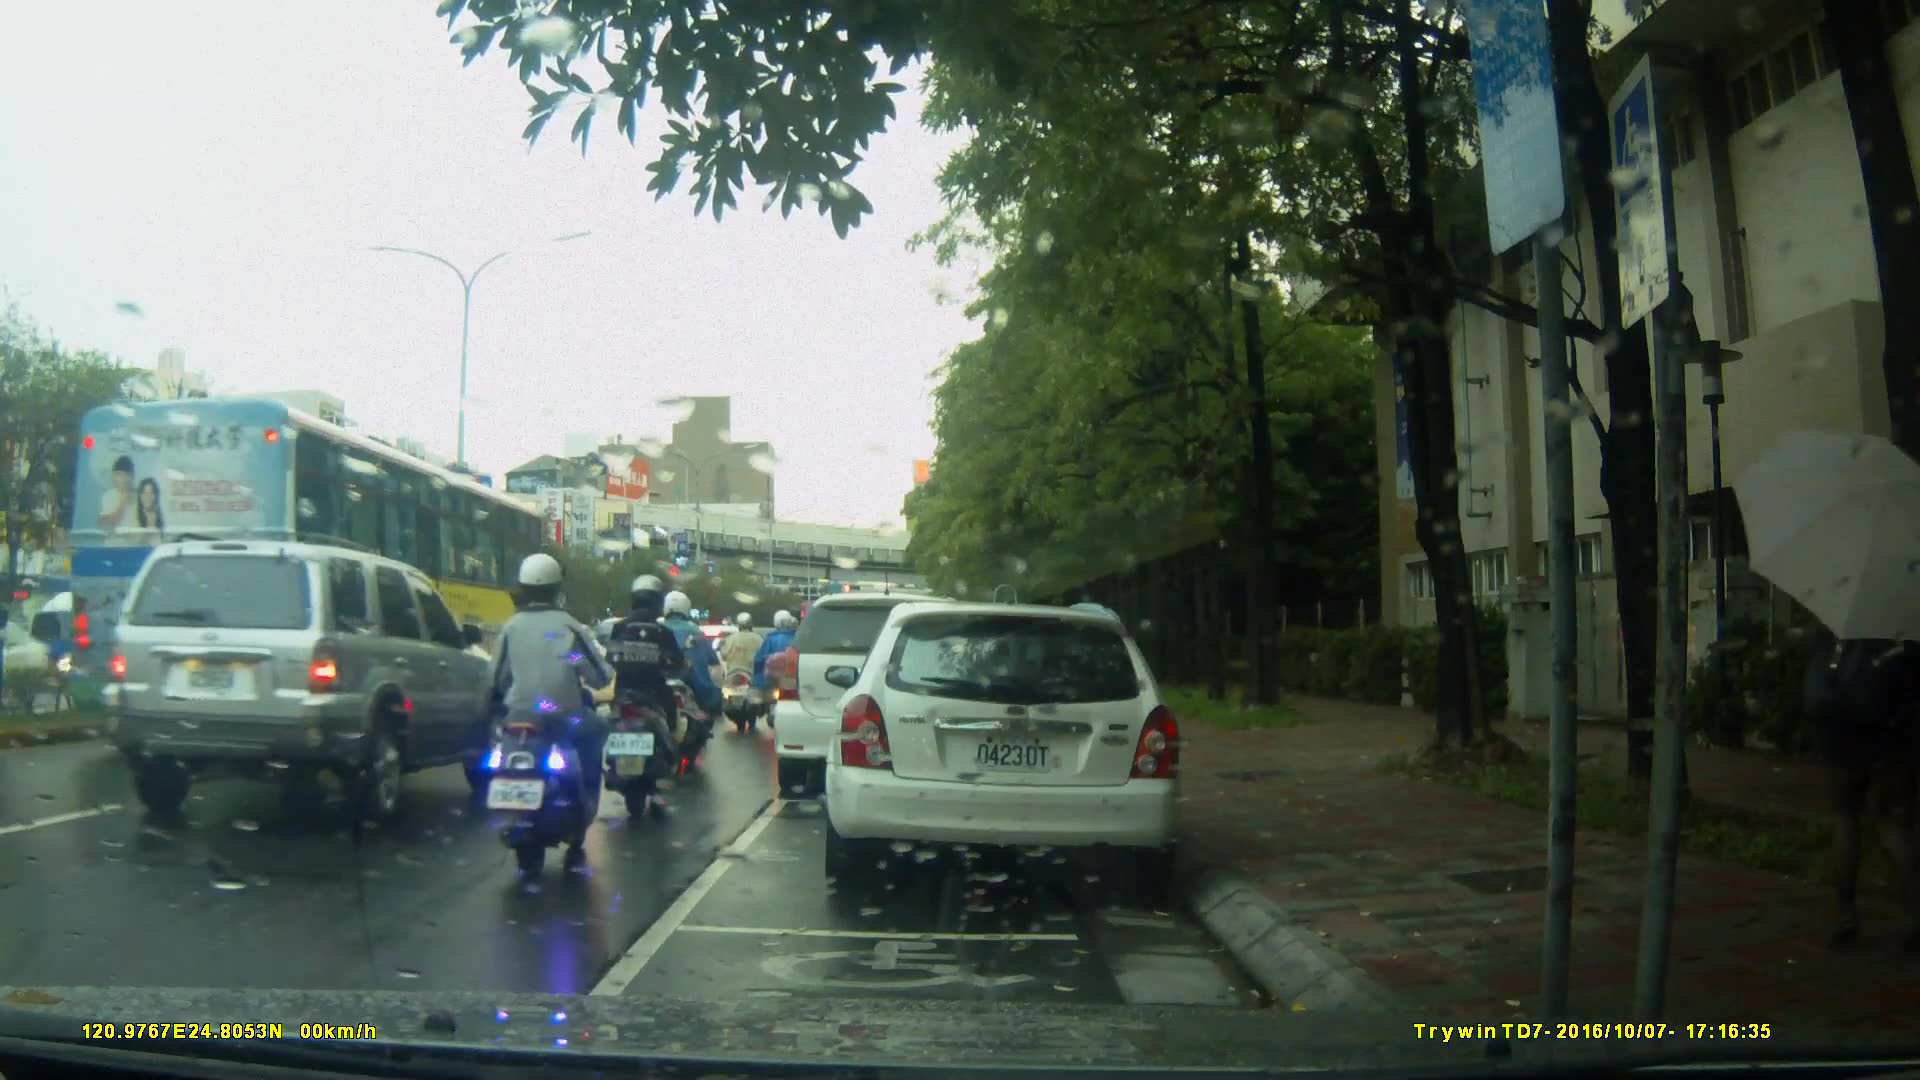pedestrian: (1777, 512, 1917, 947)
rider: (475, 550, 615, 879), (602, 571, 690, 816), (648, 587, 728, 764), (717, 610, 777, 732), (756, 612, 815, 729)
vehicle: (57, 397, 556, 756), (96, 532, 509, 828), (835, 594, 1194, 898), (776, 590, 1026, 784)
